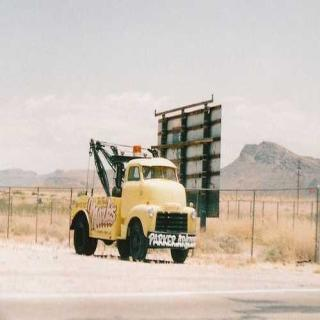Towing_truck: (68, 136, 200, 264)
